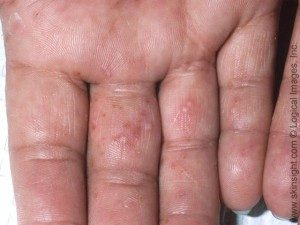Diseased: (7, 20, 257, 196)
